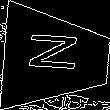N_E: (26, 36, 86, 80)
